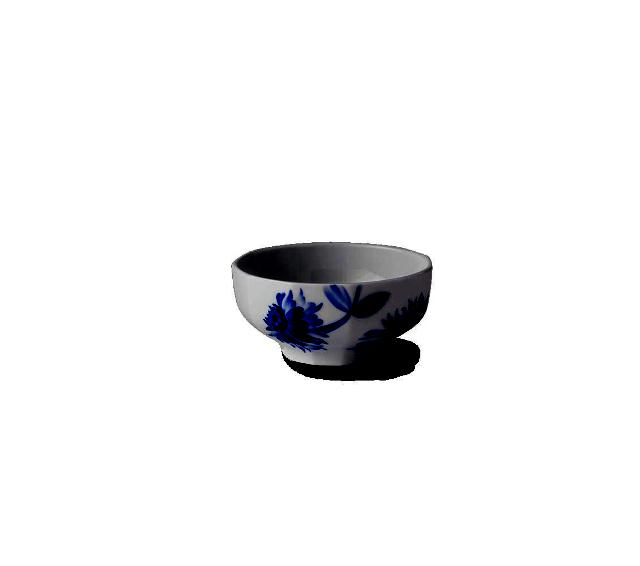Bowl: (233, 243, 432, 366)
